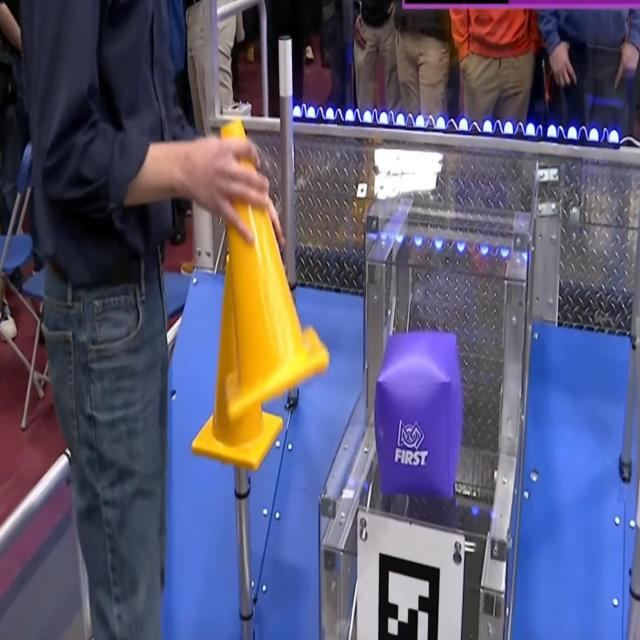frc_cone: (217, 118, 330, 419), (192, 250, 273, 473)
frc_cube: (376, 333, 464, 501)
